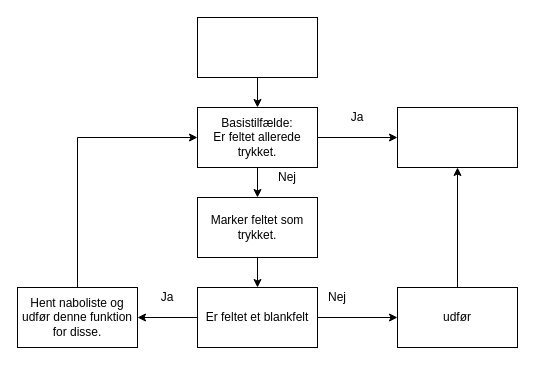
This 535x365 diagram has some shape labels left out. Each missing label, with the centre of its shape:
"Slut" goes at point 457,137.
"Start" goes at point 257,47.
